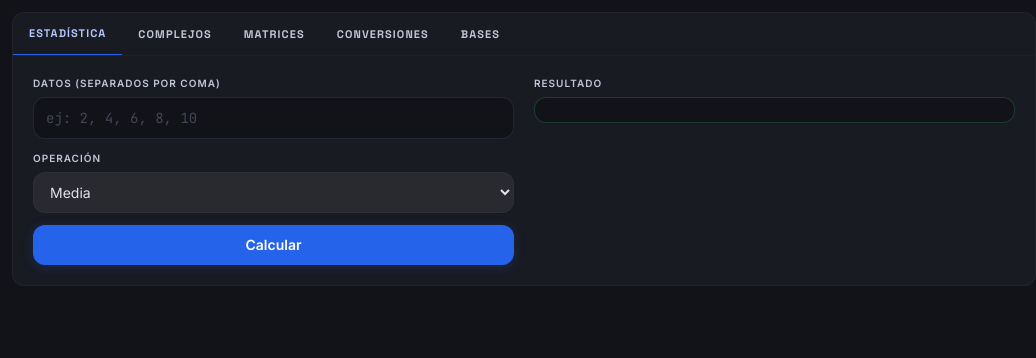
Test: AdvancedPanel — Tab Complejos › cModulus: |3+4i| = 5
Click the tab with test id "tab-complex".
click(175, 34)  # box [122, 13, 228, 54]
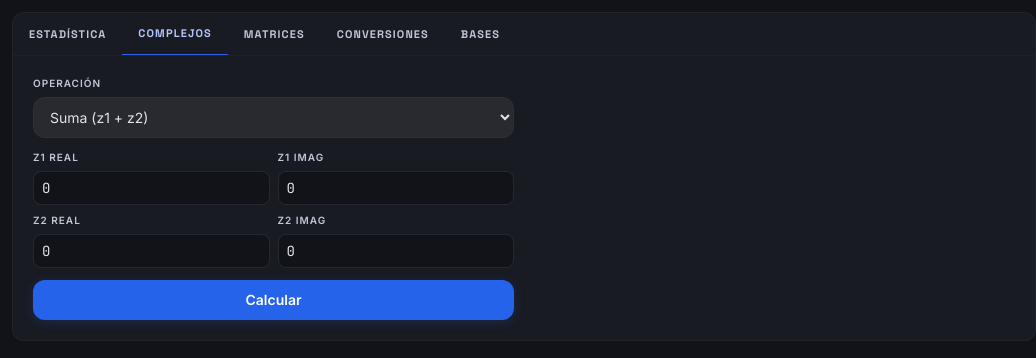
Replace the text in the number field with test id "complex-z1-real" with "3" at (151, 188), box [33, 170, 270, 204]
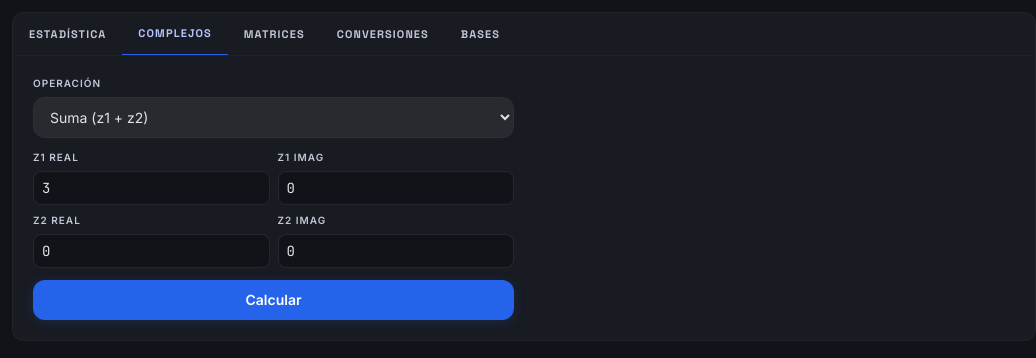
Replace the text in the number field with test id "complex-z1-imag" with "4" at (396, 188), box [278, 170, 514, 204]
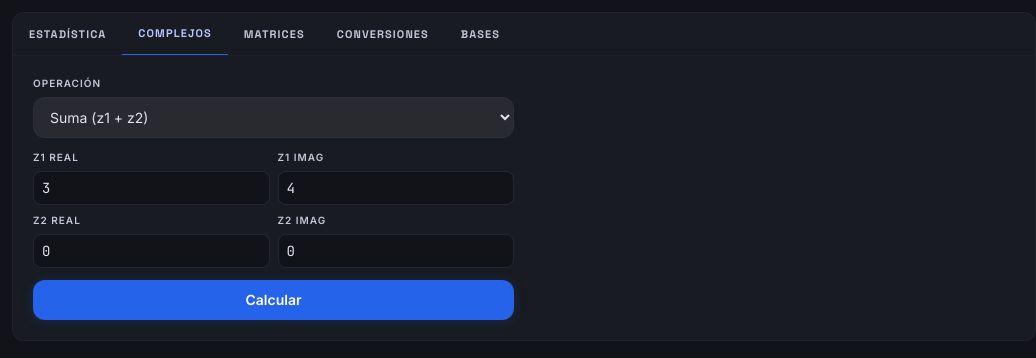
Select "Módulo |z1|" in the dropdown with test id "complex-op-select" at (274, 117), box [33, 96, 514, 138]
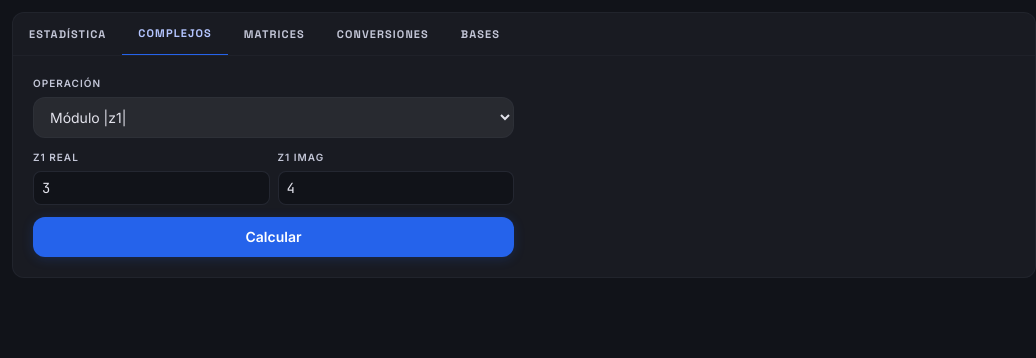
Click the button with test id "complex-calc-button".
click(274, 236)  # box [33, 216, 514, 256]
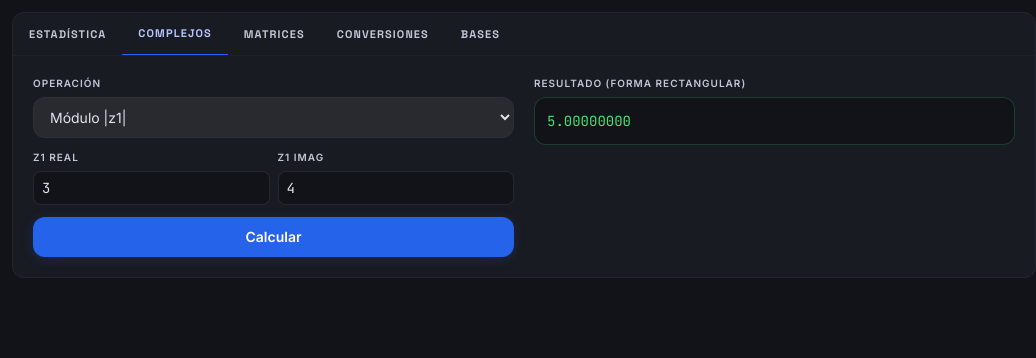
Now the text with test id "complex-result" shows "5", box [547, 112, 631, 130]
